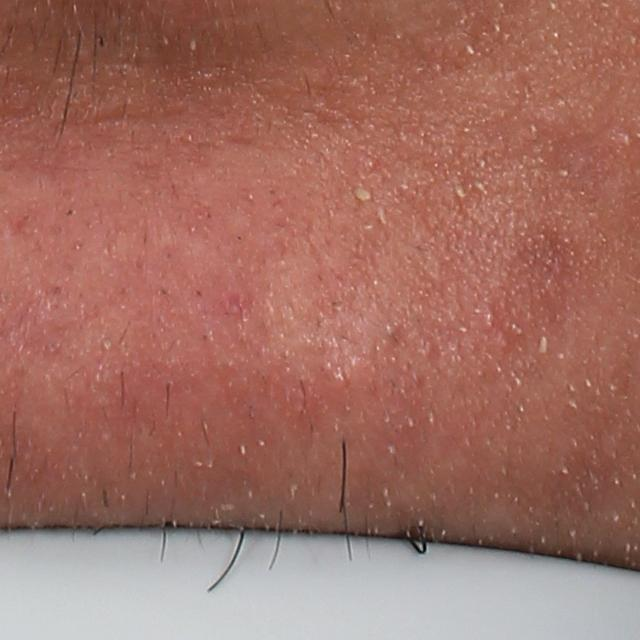other: (351, 185, 374, 204)
